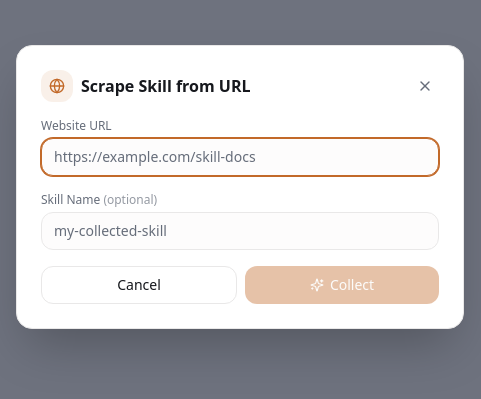
ScrapeUrlDialog — full interaction flow › displays critical scan findings in red when has_critical is true
This screenshot has width=481, height=399.
Type "https://example.com/risky" into the field with placeholder "https://example.com/skill-docs" at (240, 157), box [41, 138, 439, 176]
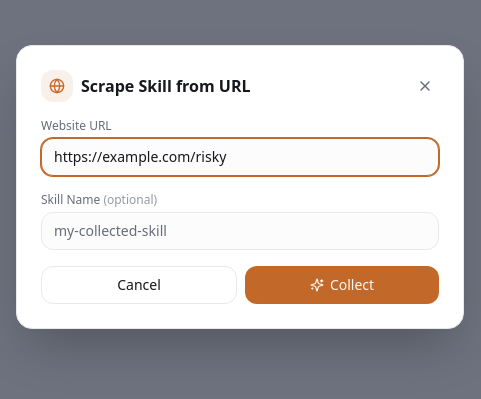
Click the button "Collect" at (342, 285), box [245, 266, 439, 304]
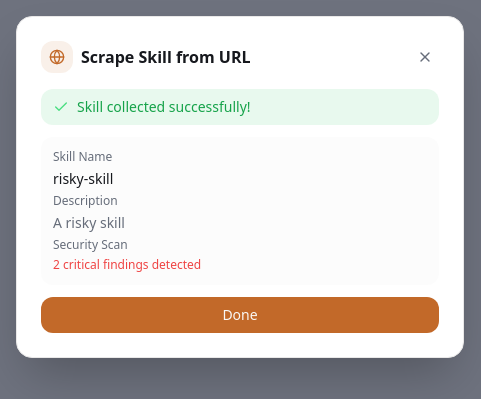
expect the text "2 critical findings detected" is shown: met, box [53, 256, 201, 273]
